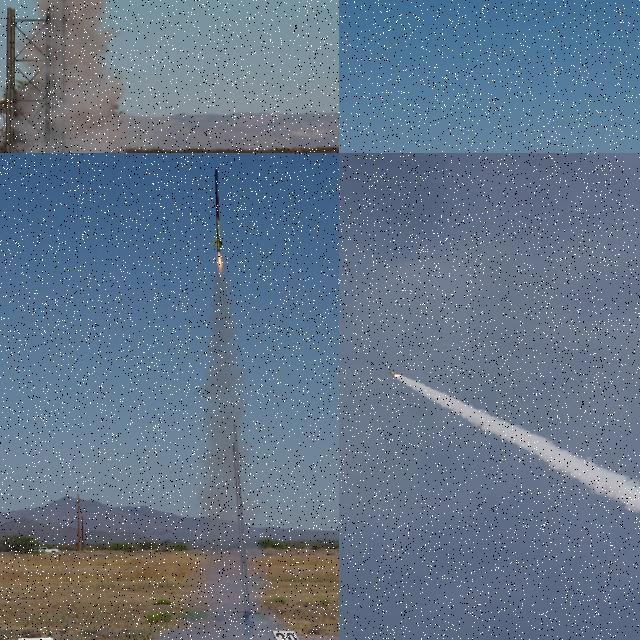Rocket: (212, 166, 224, 254), (389, 372, 399, 378)
